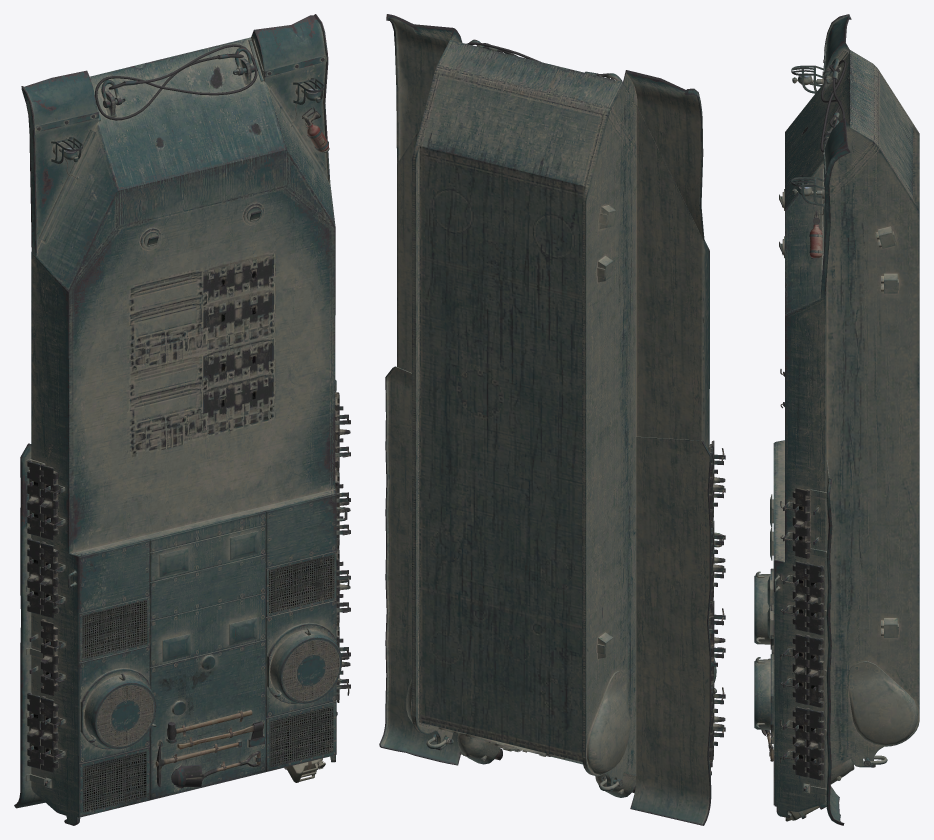
File: Hull.glb
The picture shows the model from 3 angles, left to right: view 1: azimuth 30°, elevation 25°; view 2: azimuth 150°, elevation 25°; view 3: azimuth 270°, elevation 25°; orthographic projection. The views are drawn at different scales.
Parts seen in each view (by area): view 1: set_0_group_0; view 2: set_0_group_0; view 3: set_0_group_0.
Part boxes in pixels (<box>): set_0_group_0: <box>14,14,350,825</box>; set_0_group_0: <box>379,14,725,825</box>; set_0_group_0: <box>754,14,919,825</box>.
Bounding box in the file's own units: 3.5 × 7.61 × 1.65.
1 material, 1 textured.
